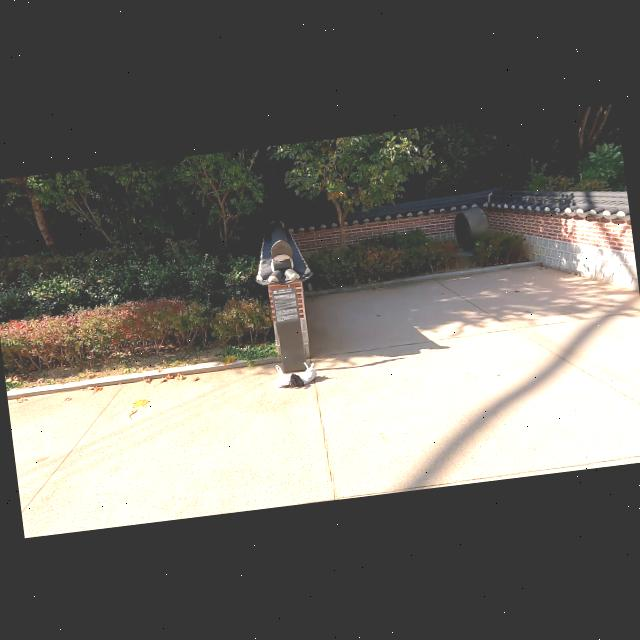trash: (270, 358, 296, 388), (298, 359, 320, 384), (287, 369, 307, 387)
